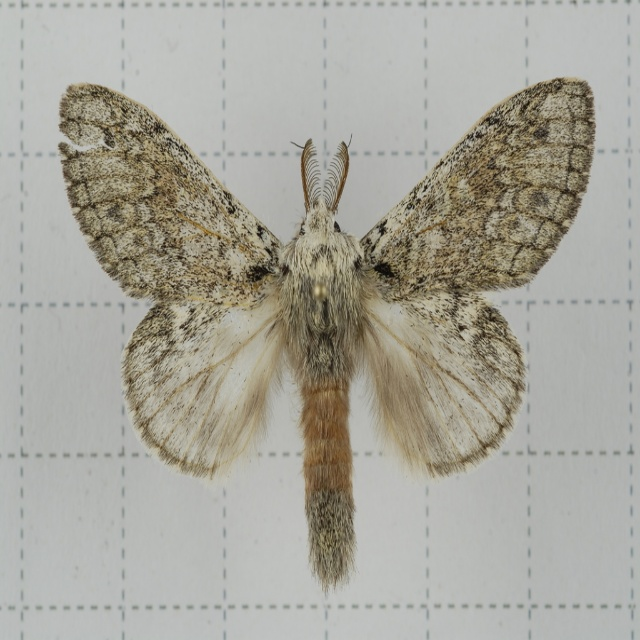Butterfly: (65, 74, 594, 595)
